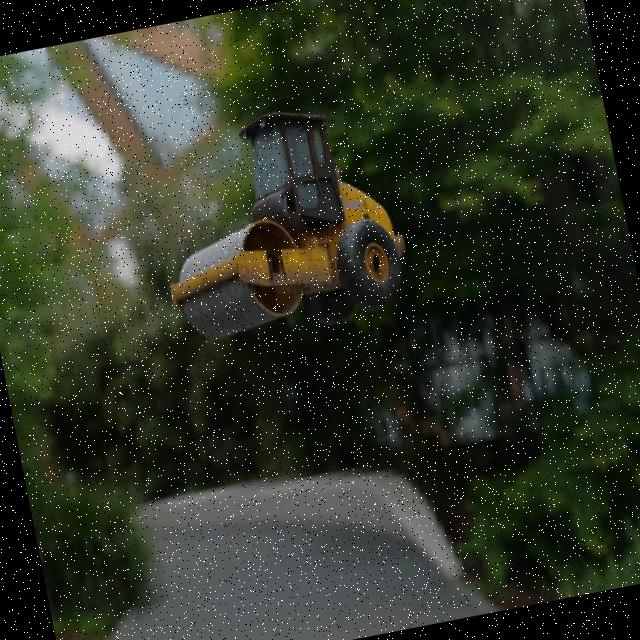Roller: (140, 92, 416, 354)
